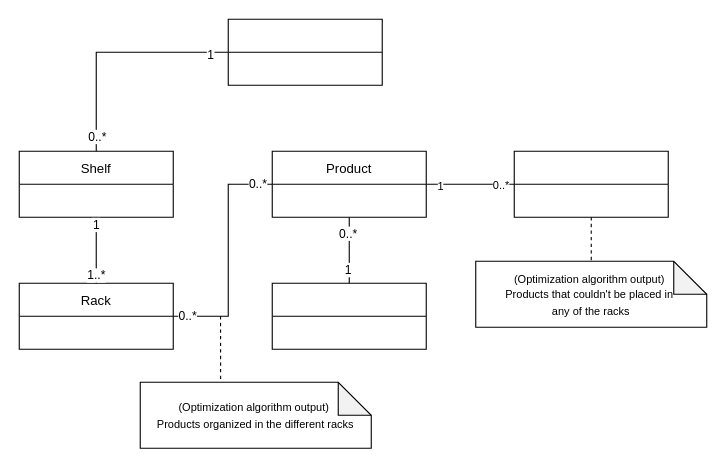
Some shapes in this 726 by 468 pixel diagram are drawn without their labels. The centre of each missing label's shape, as x and y in pixels:
"Left_Out_Products" belongs at (590,183).
"Product_Type" belongs at (348,315).
"Warehouse" belongs at (304,51).
